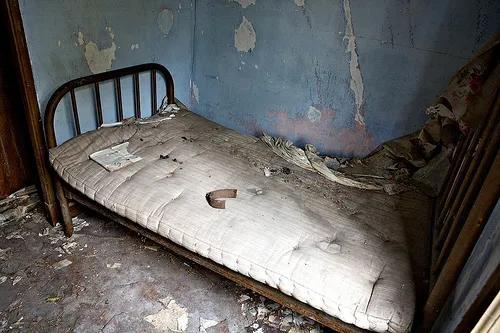Bed-Mattress: (39, 93, 427, 333)
